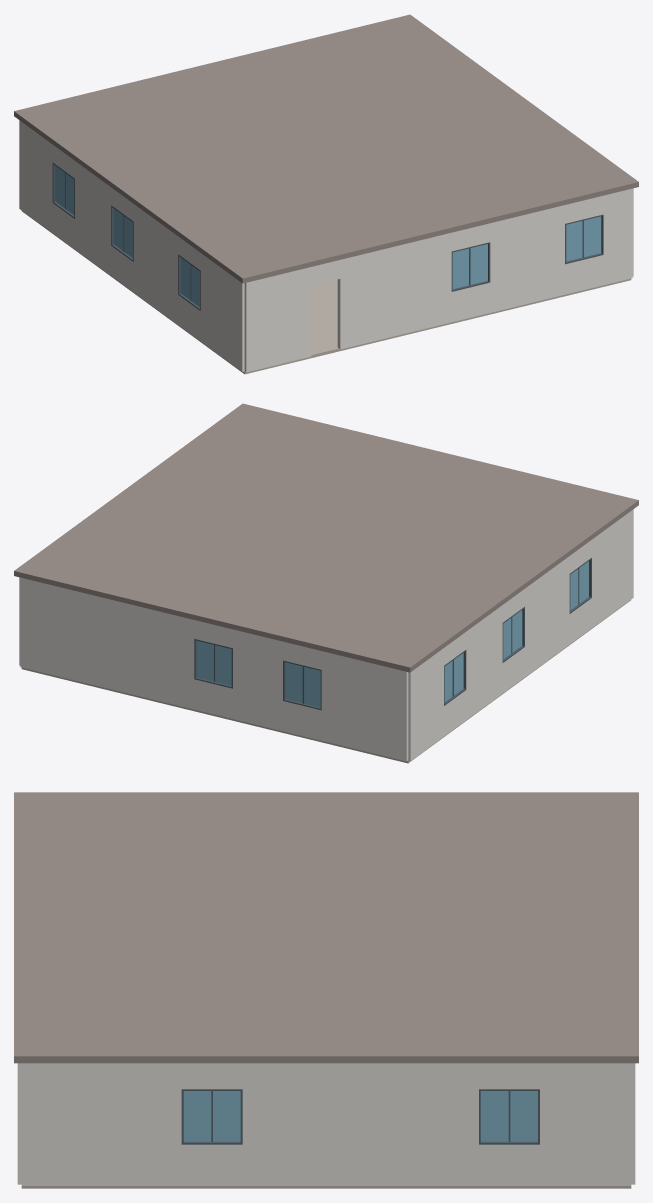
Rendered from new-home-0bd2c86b43.glb.
3 renders of one model, top to bottom at view 1: azimuth 30°, elevation 25°; view 2: azimuth 150°, elevation 25°; view 3: azimuth 270°, elevation 25°, orthographic. The views are drawn at different scales.
Parts seen in each view (by area): view 1: roof_0, wall_0_14, wall_0_15, wall_0_13, wall_0_19, wall_0_20, wall_0_18, floor_slab_0, wall_0_17, wall_0_16, window_0_8_pane, window_0_6_pane (+11 smaller); view 2: roof_0, wall_0_2, wall_0_0, wall_0_1, wall_0_19, wall_0_20, wall_0_18, wall_0_17, window_0_1_pane, window_0_2_pane, wall_0_38, wall_0_42 (+9 smaller); view 3: roof_0, wall_0_31, wall_0_32, wall_0_30, window_0_3_pane, window_0_7_pane, wall_0_59, wall_0_45, floor_slab_0, wall_0_58, wall_0_44, wall_0_2 (+1 smaller).
Part boxes in pixels (x1,y1,x2,y2): roof_0: [14, 14, 638, 283]; wall_0_14: [337, 232, 451, 349]; wall_0_15: [490, 205, 564, 312]; wall_0_13: [244, 267, 311, 372]; wall_0_19: [133, 204, 178, 324]; wall_0_20: [200, 253, 244, 371]; wall_0_18: [75, 161, 111, 275]; floor_slab_0: [22, 211, 631, 374]; wall_0_17: [19, 120, 52, 232]; wall_0_16: [603, 188, 632, 284]; window_0_8_pane: [566, 216, 601, 261]; window_0_6_pane: [452, 244, 487, 289]; roof_0: [14, 403, 638, 672]; wall_0_2: [20, 577, 194, 709]; wall_0_0: [321, 651, 408, 761]; wall_0_1: [233, 629, 282, 731]; wall_0_19: [525, 556, 569, 676]; wall_0_20: [592, 509, 633, 627]; wall_0_18: [466, 605, 502, 719]; wall_0_17: [408, 648, 443, 760]; window_0_1_pane: [285, 662, 320, 707]; window_0_2_pane: [196, 641, 231, 685]; wall_0_38: [283, 701, 321, 740]; wall_0_42: [194, 679, 232, 718]; roof_0: [14, 792, 638, 1063]; wall_0_31: [242, 1063, 478, 1185]; wall_0_32: [21, 1063, 181, 1185]; wall_0_30: [540, 1063, 631, 1185]; window_0_3_pane: [480, 1091, 537, 1141]; window_0_7_pane: [183, 1091, 240, 1141]; wall_0_59: [181, 1144, 242, 1185]; wall_0_45: [479, 1144, 539, 1185]; floor_slab_0: [21, 1186, 631, 1188]; wall_0_58: [181, 1063, 242, 1089]; wall_0_44: [479, 1063, 539, 1089]; wall_0_2: [631, 1063, 635, 1184].
Size of the model in its own units: 41 by 9.8 by 41.
